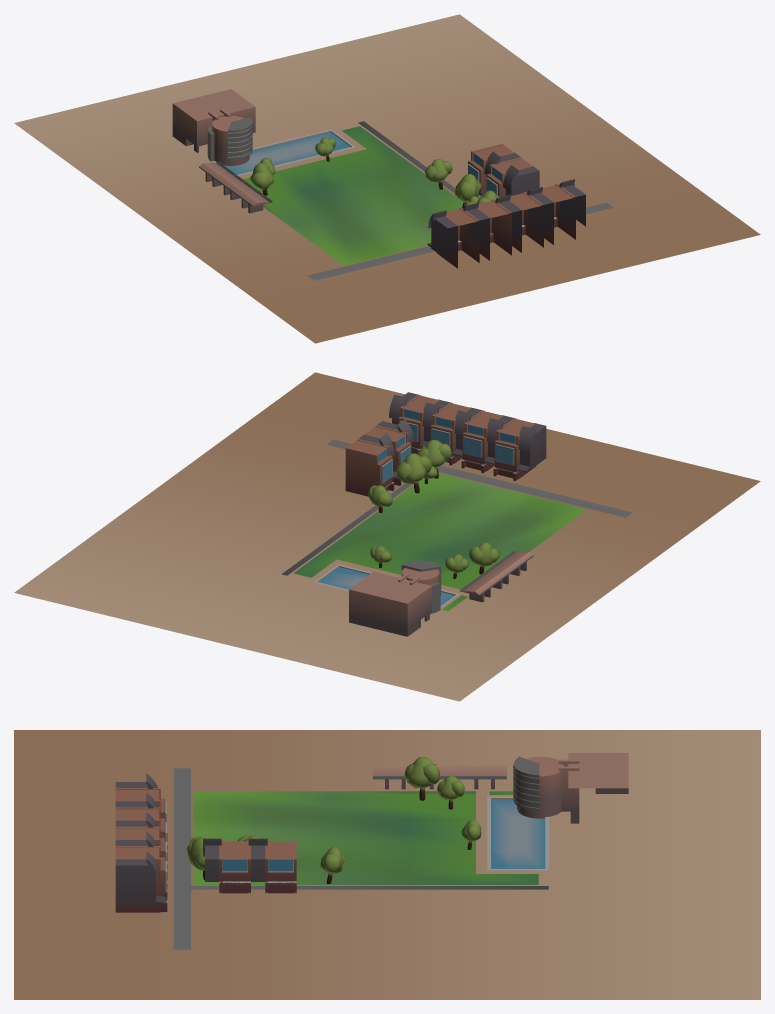
The picture shows the model from 3 angles, top to bottom: view 1: azimuth 30°, elevation 25°; view 2: azimuth 150°, elevation 25°; view 3: azimuth 270°, elevation 25°; orthographic projection. The views are drawn at different scales.
Visible parts, largest first — view 1: SM_PC_Optimized_01; view 2: SM_PC_Optimized_01; view 3: SM_PC_Optimized_01.
Part boxes in pixels (x1,y1,x2,y2): SM_PC_Optimized_01: [14, 14, 760, 343]; SM_PC_Optimized_01: [14, 372, 760, 701]; SM_PC_Optimized_01: [14, 730, 760, 999].
Size of the model in its own units: 203 by 24.93 by 238.
